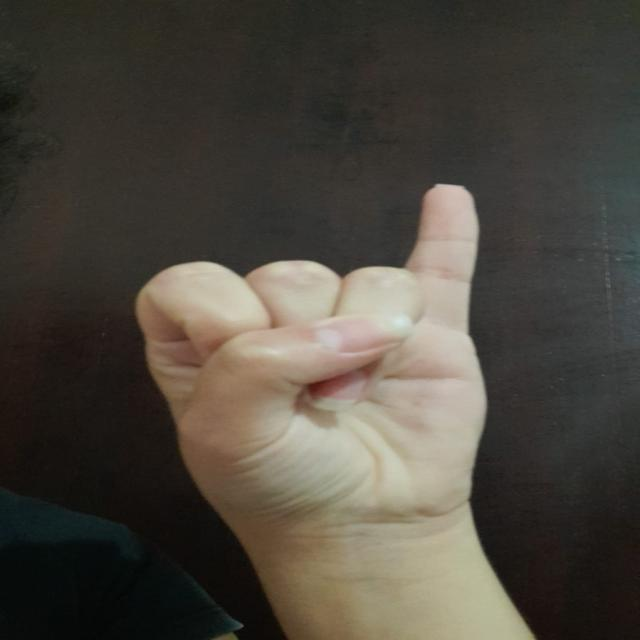I: (121, 176, 505, 518)
